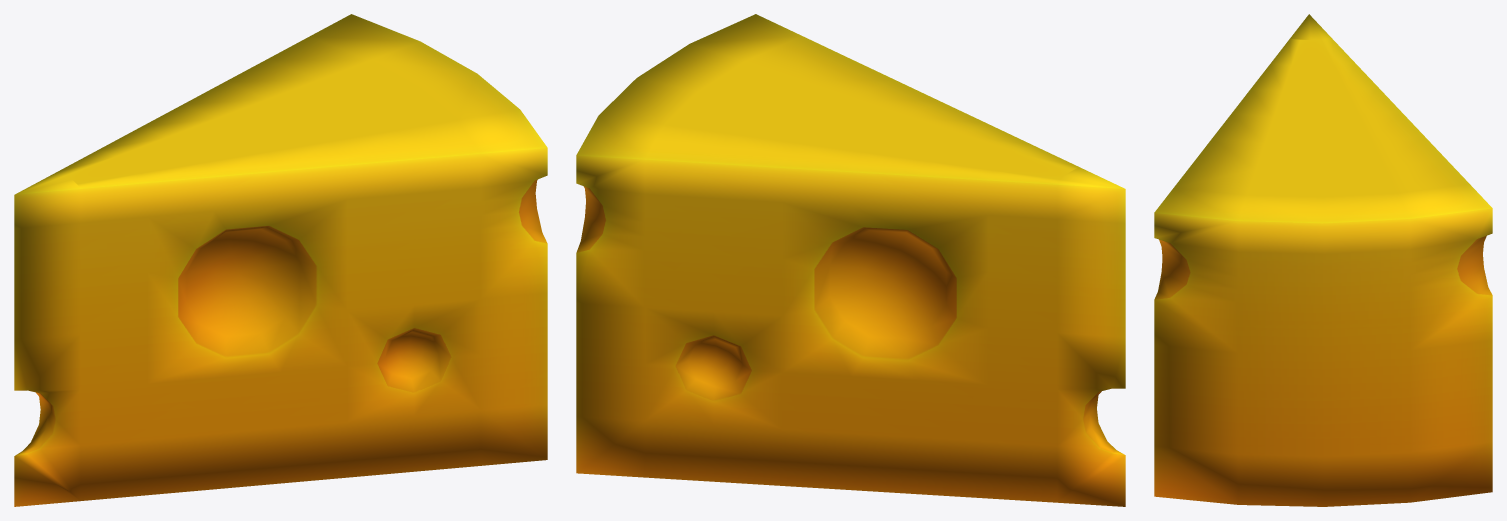
Rendered from cheese.obj.
3 renders of one model, left to right at view 1: azimuth 30°, elevation 25°; view 2: azimuth 150°, elevation 25°; view 3: azimuth 270°, elevation 25°, orthographic. The views are drawn at different scales.
Visible parts, largest first — view 1: Cheese_Cheese_0; view 2: Cheese_Cheese_0; view 3: Cheese_Cheese_0.
Boxes of the visible parts, box(x1,y1,x2,y2) form: Cheese_Cheese_0: box(14, 14, 547, 506); Cheese_Cheese_0: box(576, 14, 1125, 506); Cheese_Cheese_0: box(1154, 14, 1492, 506).
Bounding box in the file's own units: 0.3275 × 0.2071 × 0.224.
Materials: 1 (1 with a texture image).
